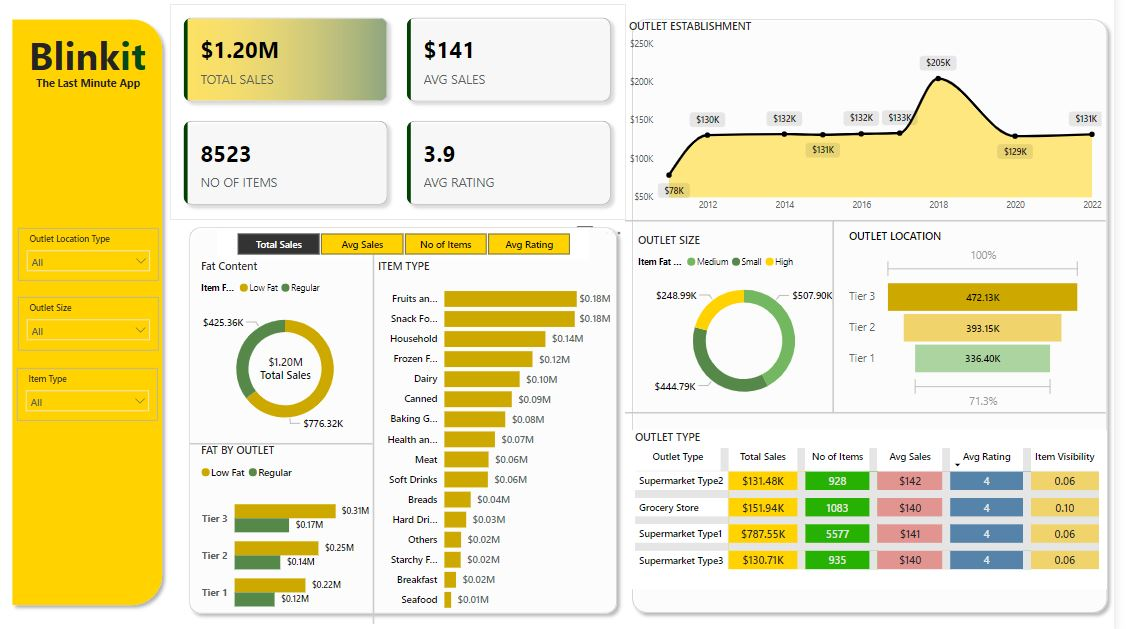

This screenshot's page, from the dashboard's own definition file:
{"tool":"powerbi","page":{"name":"Page 1","canvas":[1400,800],"ordinal":0},"visuals":[{"type":"shape","box":[14.3,25.5,205.5,750.4],"z":0},{"type":"textbox","box":[29.6,39.5,173.4,76.1],"z":1000},{"type":"textbox","box":[7.1,100.1,220,31],"z":2000},{"type":"cardVisual","fields":{"Data":["BlinkIT Grocery Data.Total Sales","BlinkIT Grocery Data.Avg Sales","BlinkIT Grocery Data.No of Items","BlinkIT Grocery Data.Avg Rating"]},"box":[220,15.5,569.7,269.3],"z":3000},{"type":"shape","box":[235.5,284.8,552.8,501],"z":4000},{"type":"donutChart","title":"Fat Content","fields":{"Y":["BlinkIT Grocery Data.Total Sales"],"Category":["BlinkIT Grocery Data.Item Fat Content"]},"box":[253.8,334.2,220,229.8],"z":5000},{"type":"slicer","fields":{"Values":["Metrics.Metrics"]},"box":[279.2,294.7,465.3,39.5],"z":6000},{"type":"cardVisual","fields":{"Data":["BlinkIT Grocery Data.Total Sales"]},"box":[303.3,414.4,121.1,110],"z":7000},{"type":"clusteredBarChart","title":"FAT BY OUTLET","fields":{"Y":["BlinkIT Grocery Data.Total Sales"],"Category":["BlinkIT Grocery Data.Outlet Location Type"],"Series":["BlinkIT Grocery Data.Item Fat Content"]},"box":[253.8,564,220,229.8],"z":8000},{"type":"shape","box":[245.4,540.1,228.4,49.4],"z":9000},{"type":"shape","box":[452.6,328.6,43.7,461.1],"z":10000},{"type":"barChart","title":"ITEM TYPE","fields":{"Y":["BlinkIT Grocery Data.Total Sales"],"Category":["BlinkIT Grocery Data.Item Type"]},"box":[475.2,334.2,300.4,451.2],"z":11000},{"type":"shape","box":[788.3,25.4,612,760.1],"z":12000},{"type":"lineChart","title":"OUTLET ESTABLISHMENT","fields":{"Y":["BlinkIT Grocery Data.Total Sales"],"Category":["BlinkIT Grocery Data.Outlet Establishment Year"]},"box":[788.3,33.8,600.7,251],"z":13000},{"type":"shape","box":[788.3,260.9,600.7,49.4],"z":14000},{"type":"donutChart","title":"OUTLET SIZE","fields":{"Y":["BlinkIT Grocery Data.Total Sales"],"Category":["BlinkIT Grocery Data.Outlet Size"]},"box":[799.5,300.8,275,225],"z":15000},{"type":"shape","box":[1008.2,284.8,80.4,241.1],"z":16000},{"type":"funnel","title":"OUTLET LOCATION","fields":{"Y":["Sum(BlinkIT Grocery Data.Sales)"],"Category":["BlinkIT Grocery Data.Outlet Location Type"]},"box":[1063.2,296.5,300.4,229.8],"z":17000},{"type":"shape","box":[788.3,501,600.7,49.4],"z":18000},{"type":"pivotTable","title":"OUTLET TYPE","fields":{"Rows":["BlinkIT Grocery Data.Outlet Type"],"Values":["BlinkIT Grocery Data.Total Sales","BlinkIT Grocery Data.No of Items","BlinkIT Grocery Data.Avg Sales","BlinkIT Grocery Data.Avg Rating","Avg(BlinkIT Grocery Data.Item Visibility)"]},"box":[796.7,547.1,595.1,198.8],"z":19000},{"type":"slicer","fields":{"Values":["BlinkIT Grocery Data.Outlet Location Type"]},"box":[29.6,294.7,176.3,66.3],"z":20000},{"type":"slicer","fields":{"Values":["BlinkIT Grocery Data.Outlet Size"]},"box":[30,381.4,175.7,67.1],"z":21000},{"type":"slicer","fields":{"Values":["BlinkIT Grocery Data.Item Type"]},"box":[28.2,469.6,176.3,66.3],"z":22000}]}

Visuals, with their boxes in screenshot pixels (x1, y1, x2, y2), scaled from the page's 1400x800 canvas onto the 1129x629 screenshot:
shape: region(12, 20, 177, 610)
textbox: region(24, 31, 164, 91)
textbox: region(6, 79, 183, 103)
cardVisual - BlinkIT Grocery Data.Total Sales x BlinkIT Grocery Data.Avg Sales: region(177, 12, 637, 224)
shape: region(190, 224, 636, 618)
"Fat Content" donutChart: region(205, 263, 382, 443)
slicer - Metrics.Metrics: region(225, 232, 600, 263)
cardVisual - BlinkIT Grocery Data.Total Sales: region(245, 326, 342, 412)
"FAT BY OUTLET" clusteredBarChart: region(205, 443, 382, 624)
shape: region(198, 425, 382, 463)
shape: region(365, 258, 400, 621)
"ITEM TYPE" barChart: region(383, 263, 625, 618)
shape: region(636, 20, 1128, 618)
"OUTLET ESTABLISHMENT" lineChart: region(636, 27, 1120, 224)
shape: region(636, 205, 1120, 244)
"OUTLET SIZE" donutChart: region(645, 237, 867, 413)
shape: region(813, 224, 878, 413)
"OUTLET LOCATION" funnel: region(857, 233, 1100, 414)
shape: region(636, 394, 1120, 433)
"OUTLET TYPE" pivotTable: region(642, 430, 1122, 586)
slicer - BlinkIT Grocery Data.Outlet Location Type: region(24, 232, 166, 284)
slicer - BlinkIT Grocery Data.Outlet Size: region(24, 300, 166, 353)
slicer - BlinkIT Grocery Data.Item Type: region(23, 369, 165, 421)
